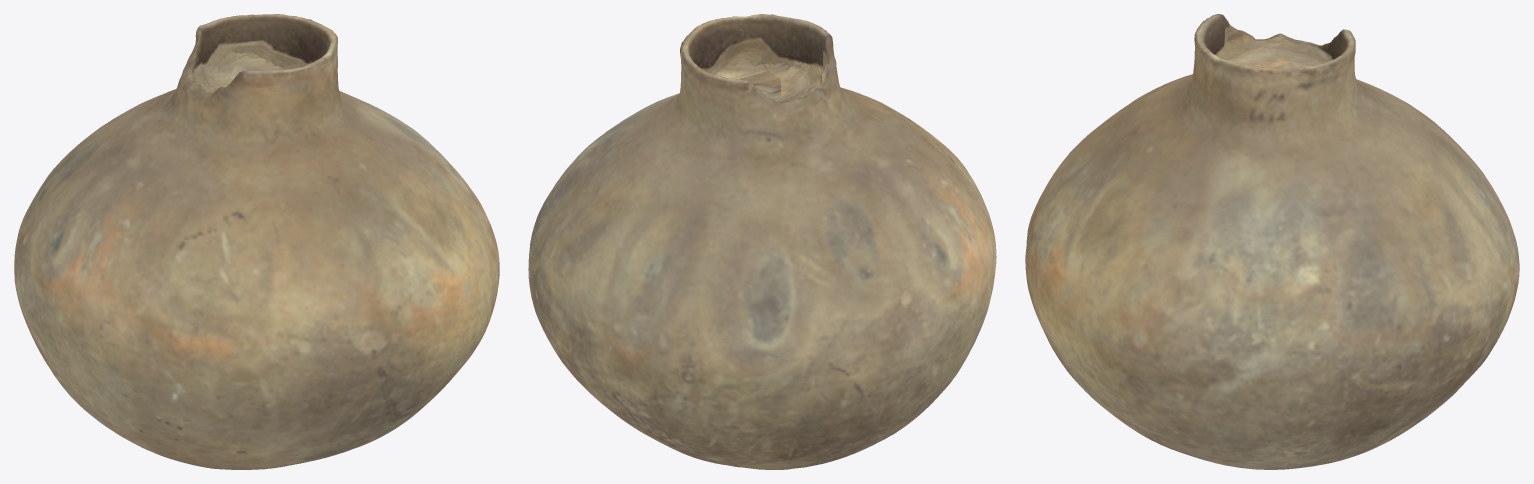
The model's file is Ark_HM_192_HI.glb.
The picture shows the model from 3 angles, left to right: view 1: azimuth 30°, elevation 25°; view 2: azimuth 150°, elevation 25°; view 3: azimuth 270°, elevation 25°; orthographic projection. The views are drawn at different scales.
Size of the model in its own units: 0.4925 by 0.4602 by 0.4986.
Materials: 1 (1 with a texture image).
